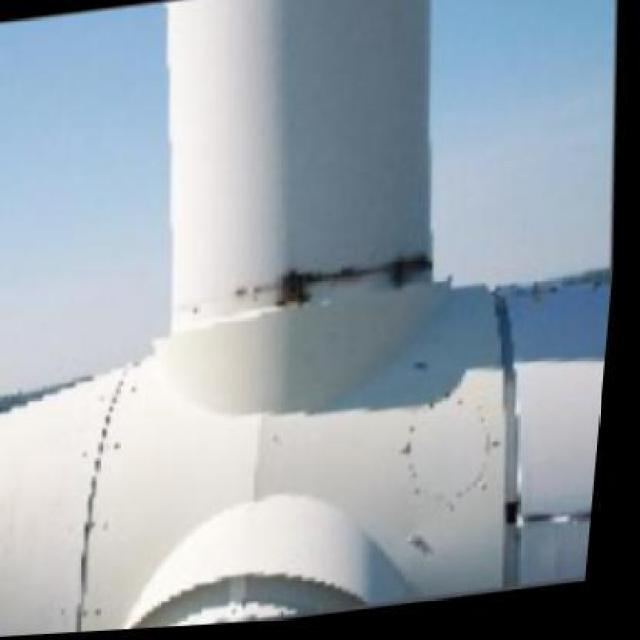Burn Mark: (393, 255, 441, 294), (280, 274, 318, 311)
